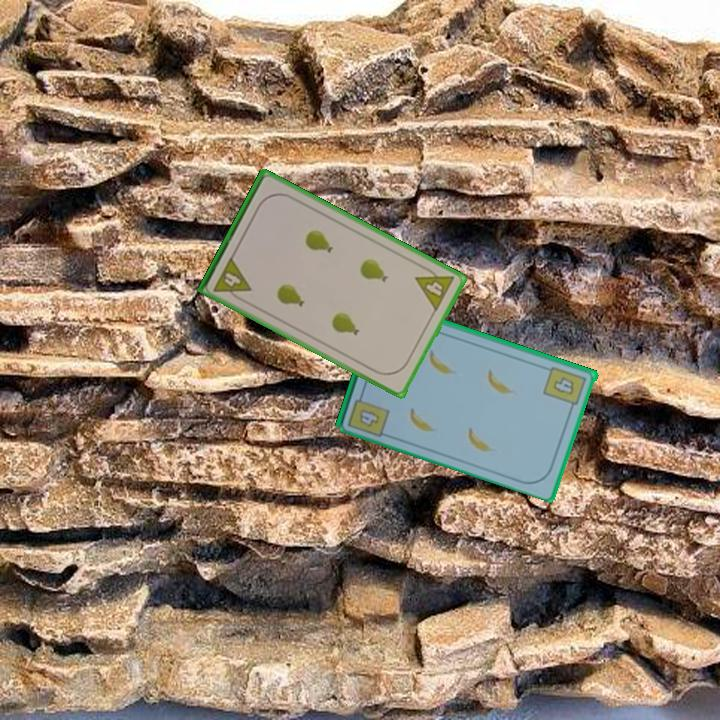4b: (540, 363, 590, 414), (344, 387, 392, 439)
4p: (412, 261, 458, 314), (210, 253, 254, 305)
